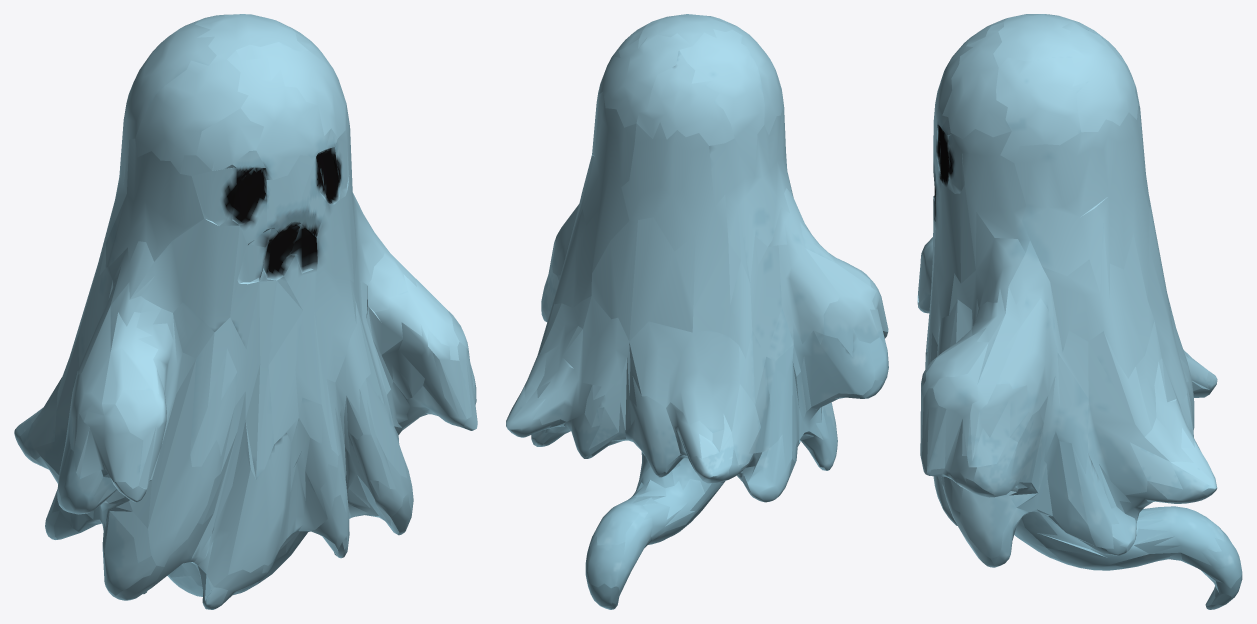
File: ghost.glb
3 views of the same model, side by side, from view 1: azimuth 30°, elevation 25°; view 2: azimuth 150°, elevation 25°; view 3: azimuth 270°, elevation 25° (orthographic). The views are drawn at different scales.
Bounding box in the file's own units: 1.28 × 1.9 × 0.9574.
1 material, 1 textured.
